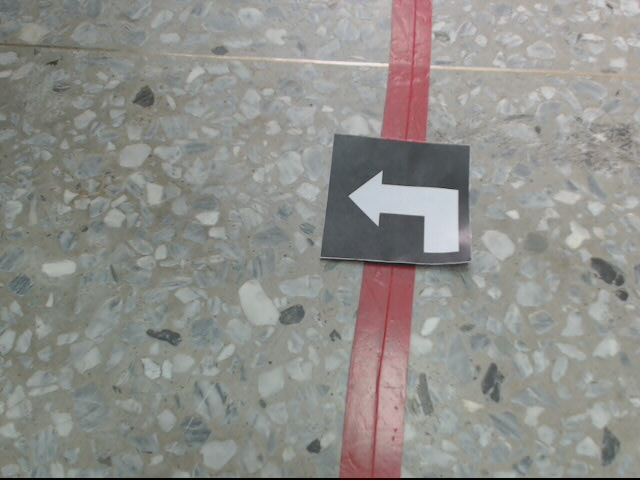left: (321, 131, 474, 267)
